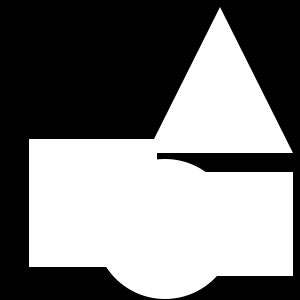circle: (29, 139, 157, 267), (189, 172, 293, 276)
rectangle: (95, 159, 235, 299)
triangle: (147, 7, 293, 153)
